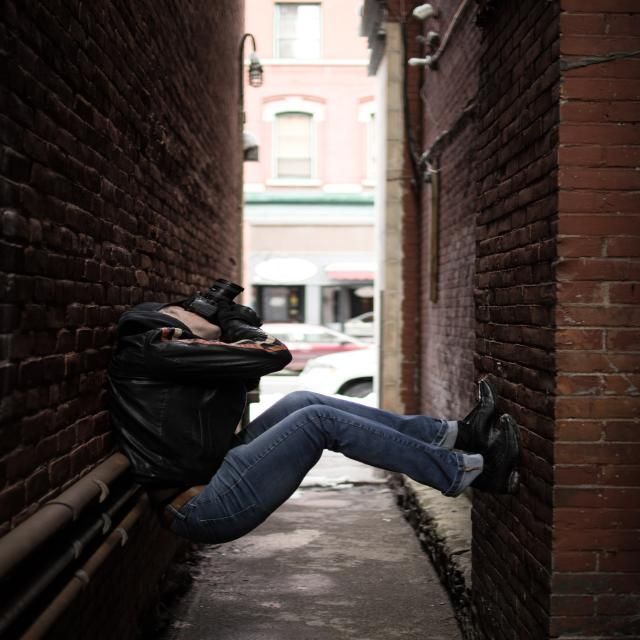adult: (104, 292, 507, 538)
